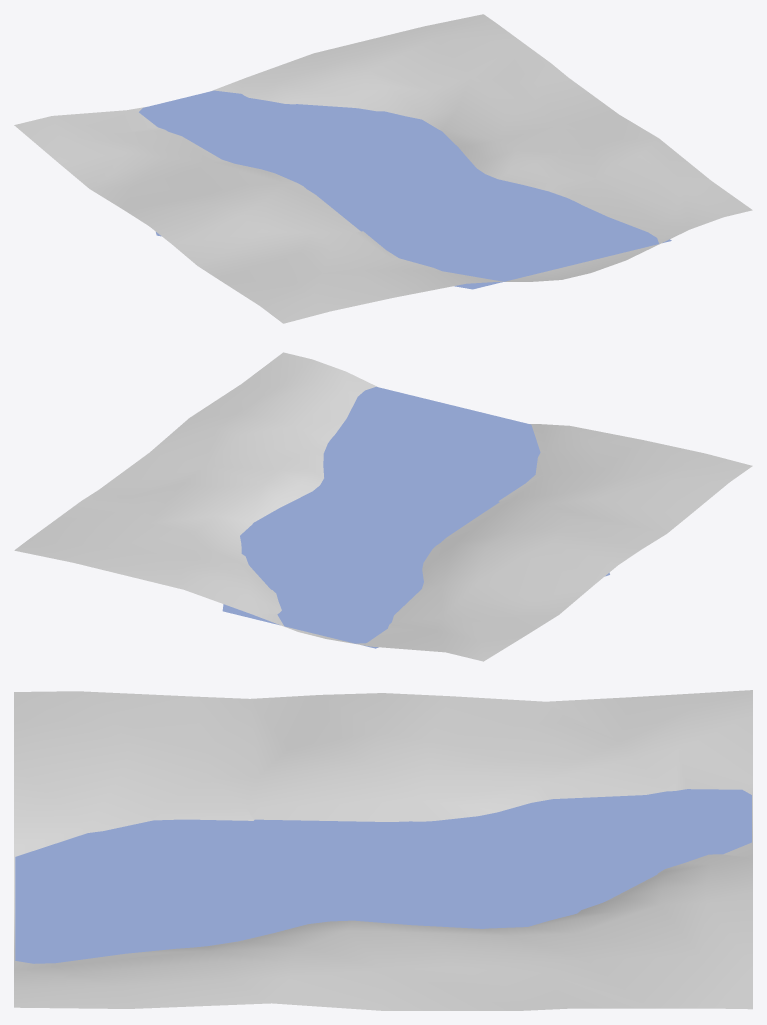
File: Stage_06.fbx
3 renders of one model, top to bottom at view 1: azimuth 30°, elevation 25°; view 2: azimuth 150°, elevation 25°; view 3: azimuth 270°, elevation 25°, orthographic. The views are drawn at different scales.
Visible parts, largest first — view 1: ICE.003; view 2: ICE.003; view 3: ICE.003.
Part boxes in pixels (x1,y1,x2,y2): ICE.003: (14,14,752,323); ICE.003: (14,352,752,661); ICE.003: (14,690,752,1010).
Size of the model in its own units: 2311 by 206 by 2296.
